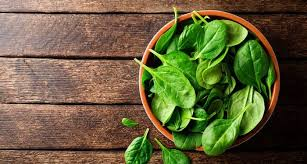spinach: (169, 34, 256, 133)
